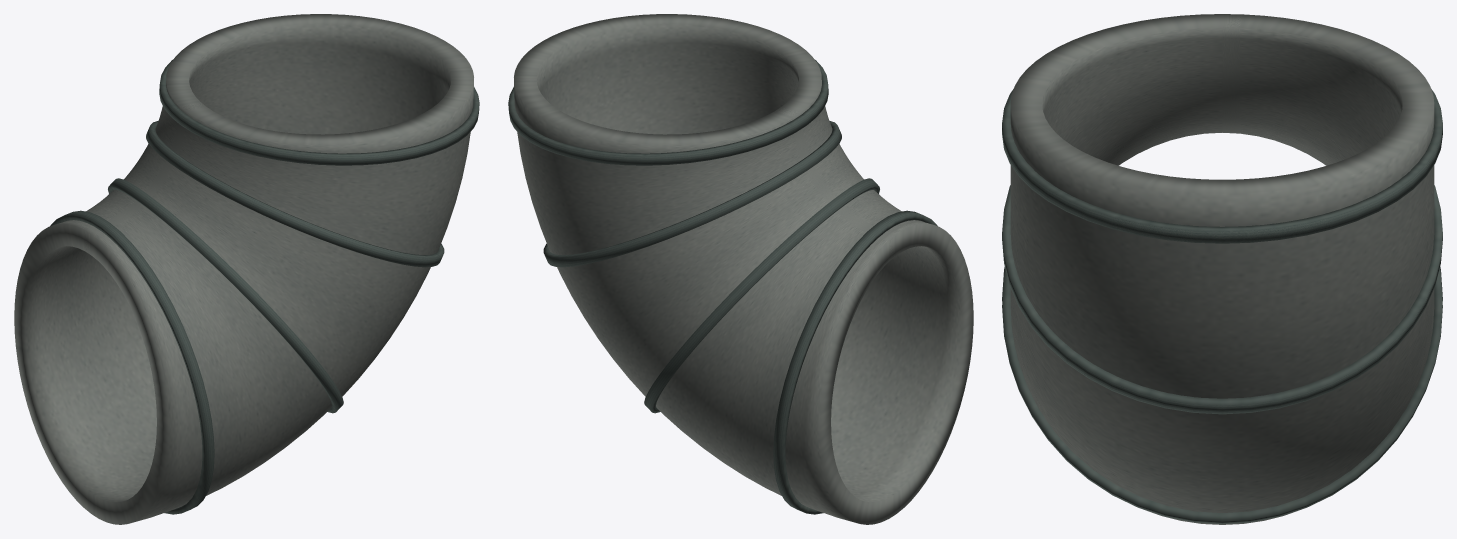
The model's file is PZ_WWT_02_Tunnel_Elbow_90deg.glb.
The picture shows the model from 3 angles, left to right: view 1: azimuth 30°, elevation 25°; view 2: azimuth 150°, elevation 25°; view 3: azimuth 270°, elevation 25°; orthographic projection. The views are drawn at different scales.
Visible parts, largest first — view 1: ELB90_Concrete_Bend_3mRadius, ELB90_ReinforcingBand_3, ELB90_ReinforcingBand_0, ELB90_ReinforcingBand_2, ELB90_ReinforcingBand_1; view 2: ELB90_Concrete_Bend_3mRadius, ELB90_ReinforcingBand_3, ELB90_ReinforcingBand_0, ELB90_ReinforcingBand_2, ELB90_ReinforcingBand_1; view 3: ELB90_Concrete_Bend_3mRadius, ELB90_ReinforcingBand_2, ELB90_ReinforcingBand_3, ELB90_ReinforcingBand_1.
Boxes of the visible parts, x1,y1,x2,y2 form: ELB90_Concrete_Bend_3mRadius: (14,14,473,524); ELB90_ReinforcingBand_3: (159,60,479,165); ELB90_ReinforcingBand_0: (50,210,214,514); ELB90_ReinforcingBand_2: (146,121,444,267); ELB90_ReinforcingBand_1: (108,178,343,413); ELB90_Concrete_Bend_3mRadius: (514,14,973,524); ELB90_ReinforcingBand_3: (508,60,828,165); ELB90_ReinforcingBand_0: (773,210,937,514); ELB90_ReinforcingBand_2: (543,121,841,267); ELB90_ReinforcingBand_1: (644,178,879,413); ELB90_Concrete_Bend_3mRadius: (1010,14,1434,524); ELB90_ReinforcingBand_2: (1002,185,1442,414); ELB90_ReinforcingBand_3: (1002,89,1442,243); ELB90_ReinforcingBand_1: (1002,270,1442,524).
Size of the model in its own units: 4.81 by 4.77 by 3.64.
1 material, 1 textured.
